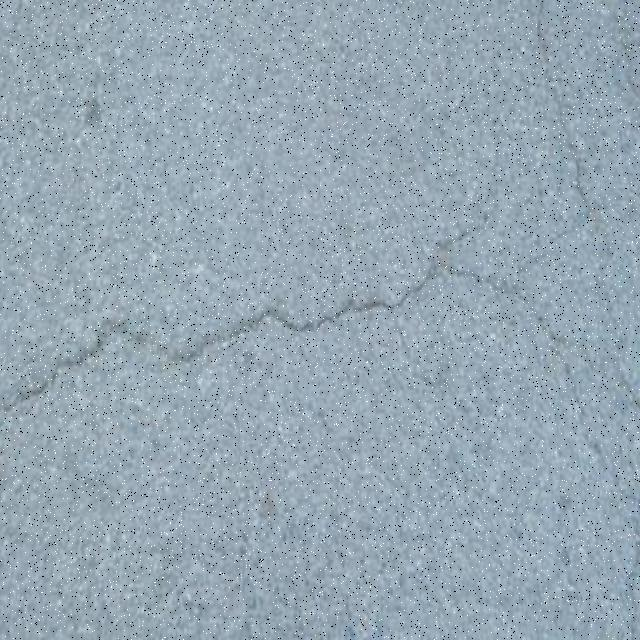Crack: (2, 0, 640, 506), (601, 231, 638, 406)
